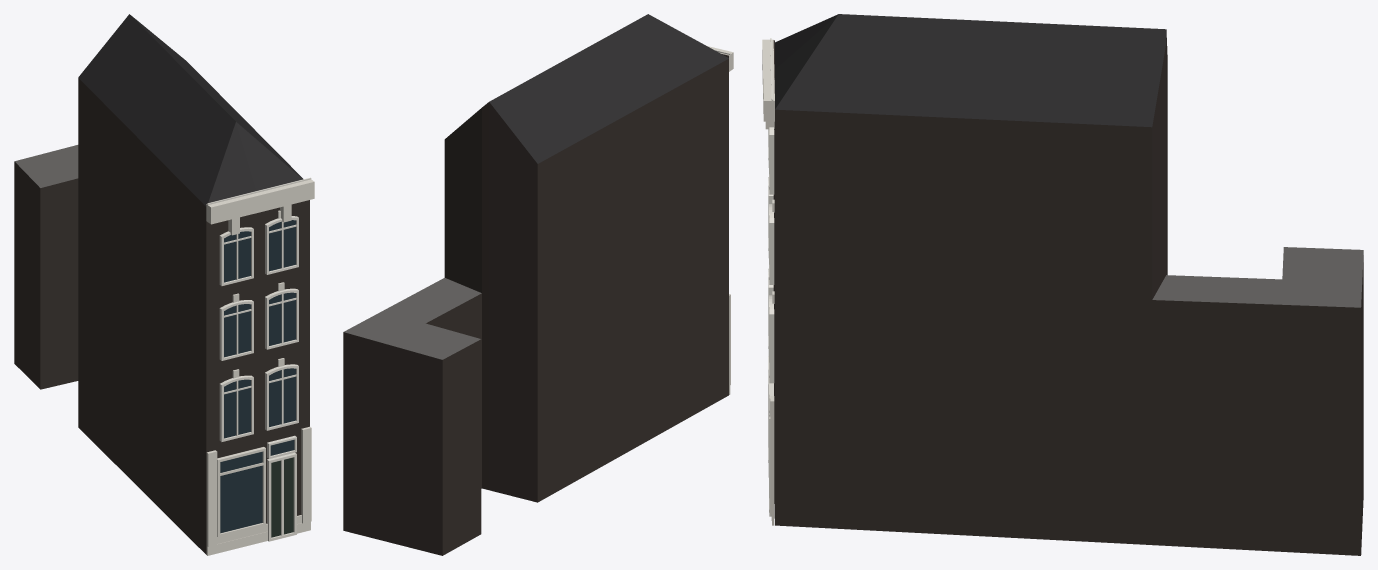
3 renders of one model, left to right at view 1: azimuth 30°, elevation 25°; view 2: azimuth 150°, elevation 25°; view 3: azimuth 270°, elevation 25°, orthographic. The views are drawn at different scales.
Visible parts, largest first — view 1: spec-0363100012171921; view 2: spec-0363100012171921; view 3: spec-0363100012171921.
Part boxes in pixels (left/top/right/bottom): spec-0363100012171921: left=14, top=14, right=314, bottom=555; spec-0363100012171921: left=343, top=14, right=733, bottom=555; spec-0363100012171921: left=762, top=14, right=1363, bottom=555.
Bounding box in the file's own units: 5.26 × 12.97 × 14.56.
